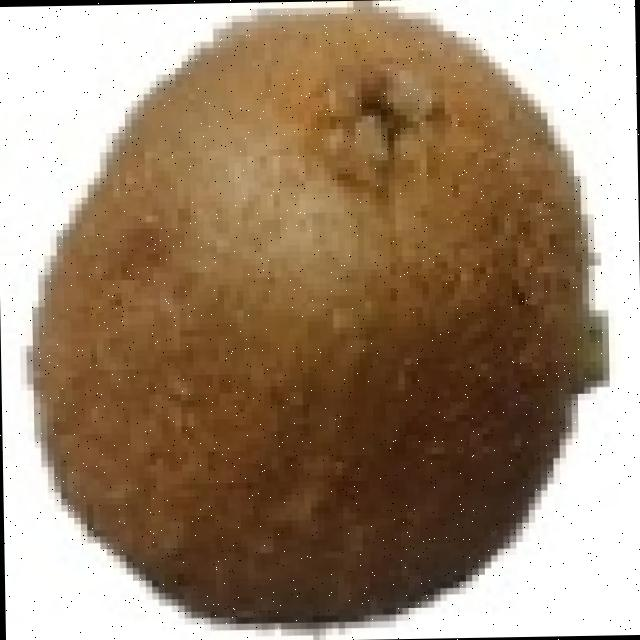kiwi: (25, 5, 590, 610)
